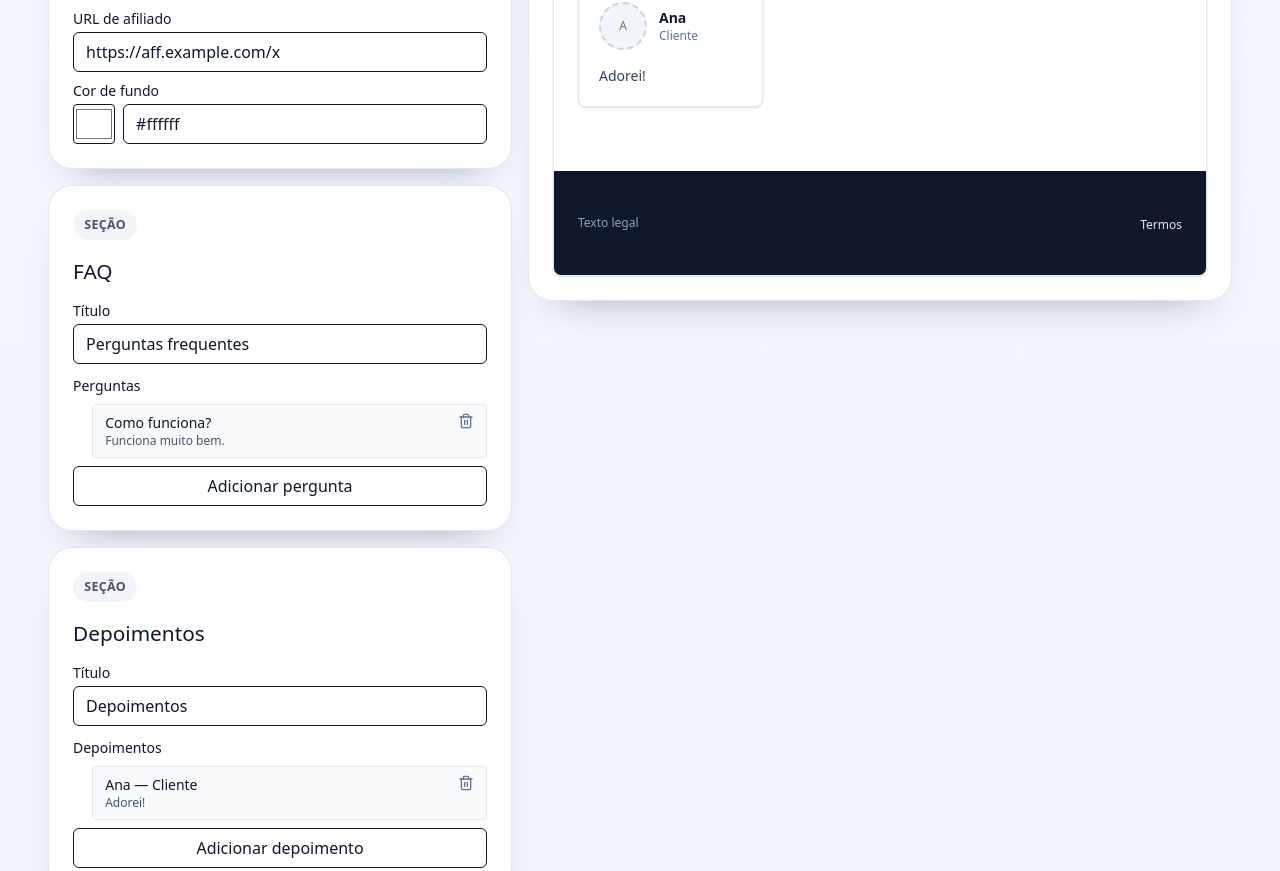
it: PresellsV2EditPage forms › removes an FAQ item via confirm modal
(page scrolled)
Click the button named "remover pergunta": (466, 421) [458,413,474,429]
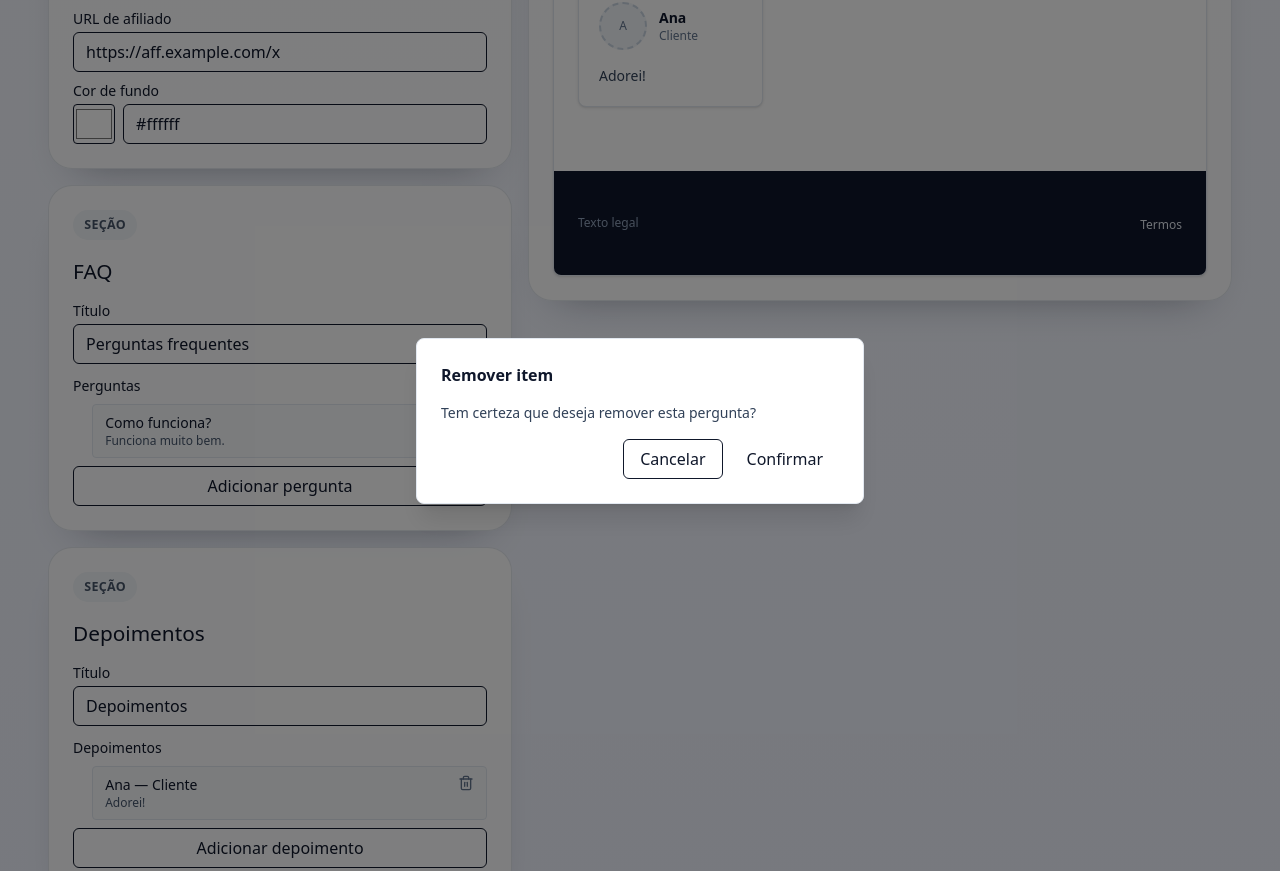
Click the button "Confirmar": (785, 459) [730,439,839,479]
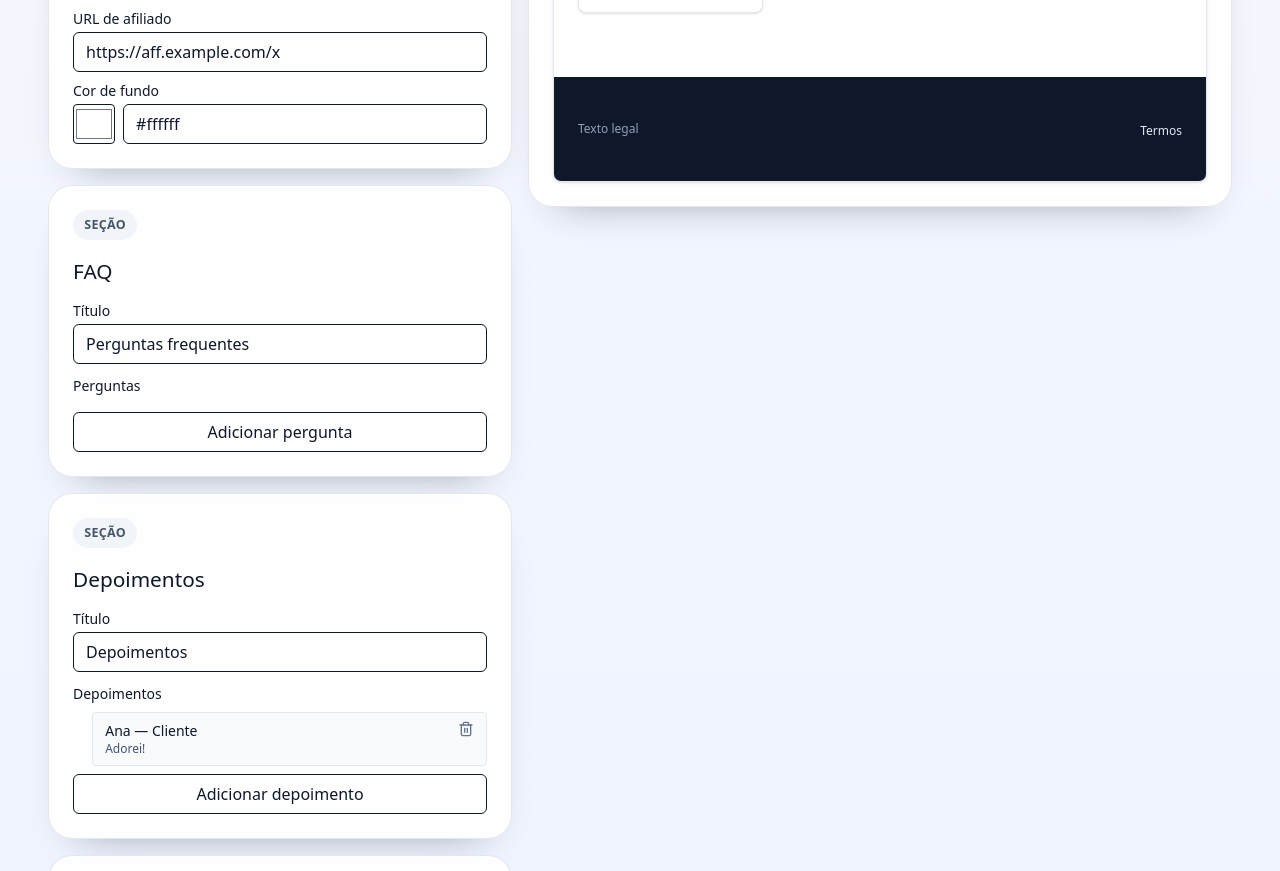
Now the text "Como funciona?" is gone
